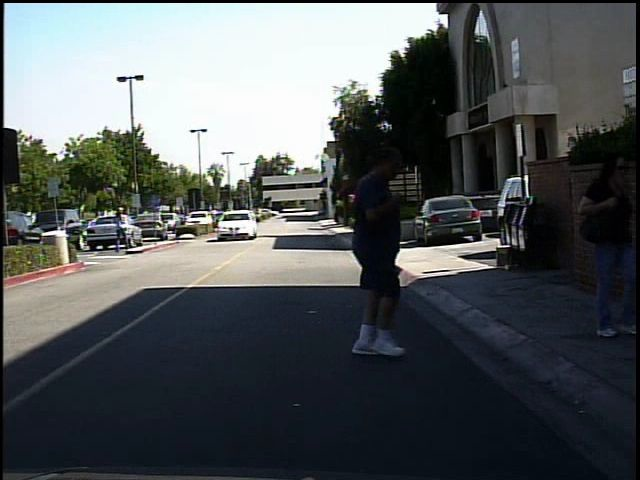person: (321, 144, 427, 367), (568, 137, 636, 342), (109, 203, 132, 256)
